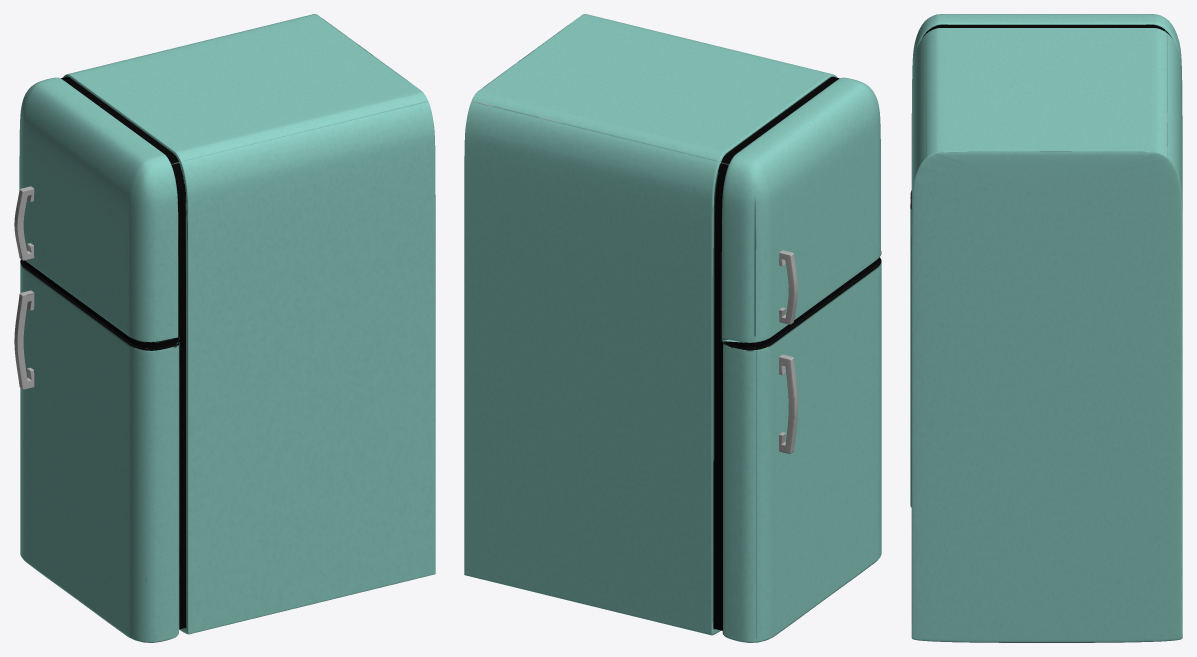
File: Fridge.003.fbx
3 renders of one model, left to right at view 1: azimuth 30°, elevation 25°; view 2: azimuth 150°, elevation 25°; view 3: azimuth 270°, elevation 25°, orthographic. The views are drawn at different scales.
Parts seen in each view (by area): view 1: Fridge.003_Baked; view 2: Fridge.003_Baked; view 3: Fridge.003_Baked.
Part boxes in pixels (left/top/right/bottom): Fridge.003_Baked: left=14, top=14, right=435, bottom=642; Fridge.003_Baked: left=464, top=14, right=881, bottom=642; Fridge.003_Baked: left=910, top=14, right=1182, bottom=642.
Bounding box in the file's own units: 137 × 200 × 100.
1 material, 1 textured.
